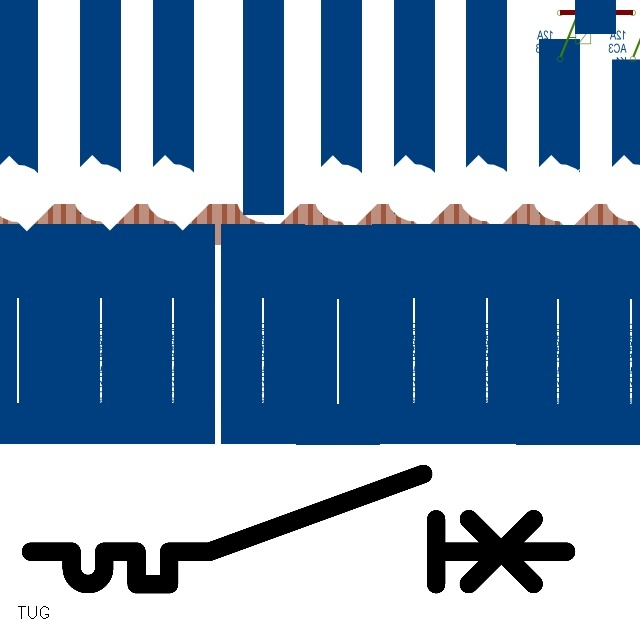interruptor_termomagnetico: (17, 460, 580, 598)
